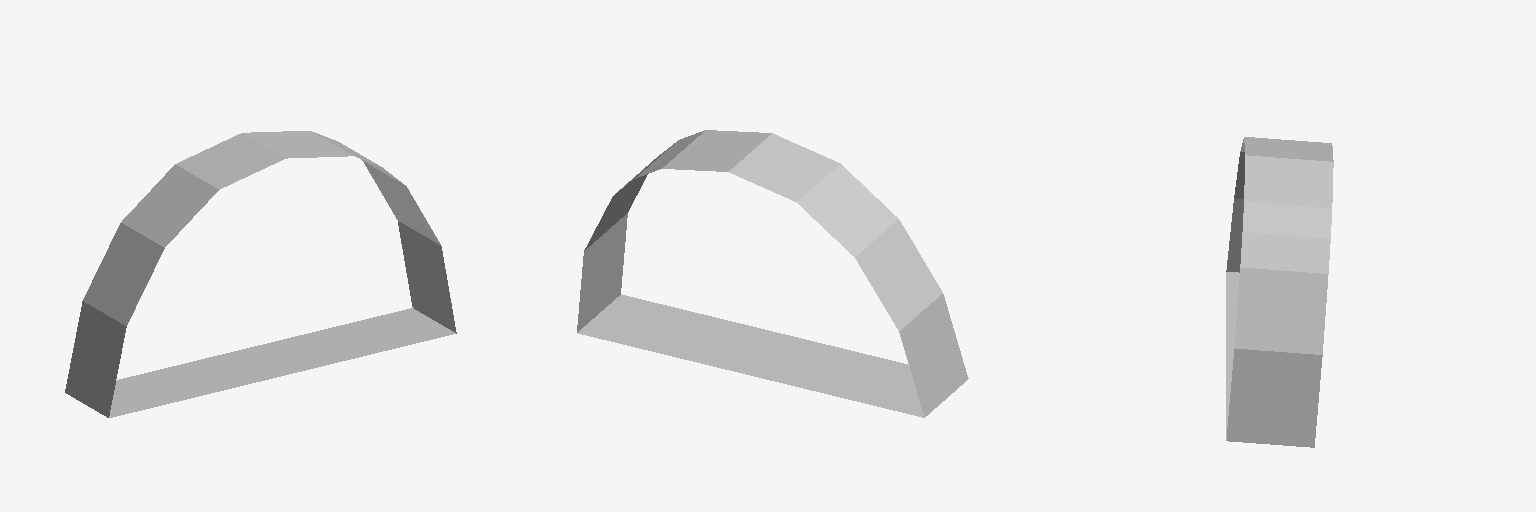
File: original-245.obj
The picture shows the model from 3 angles: view 1: azimuth 30°, elevation 25°; view 2: azimuth 150°, elevation 25°; view 3: azimuth 270°, elevation 25°; orthographic projection.
Parts seen in each view (by area): view 1: #ID1411; view 2: #ID1411; view 3: #ID1411.
Part boxes in pixels (left/top/right/bottom): #ID1411: left=65, top=131, right=456, bottom=417; #ID1411: left=577, top=130, right=968, bottom=417; #ID1411: left=1226, top=137, right=1333, bottom=447.
Bounding box in the file's own units: 0.0036 × 0.0021 × 0.001.